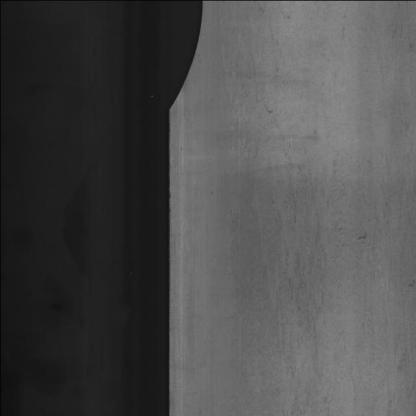crescent_gap: (156, 0, 206, 116)
